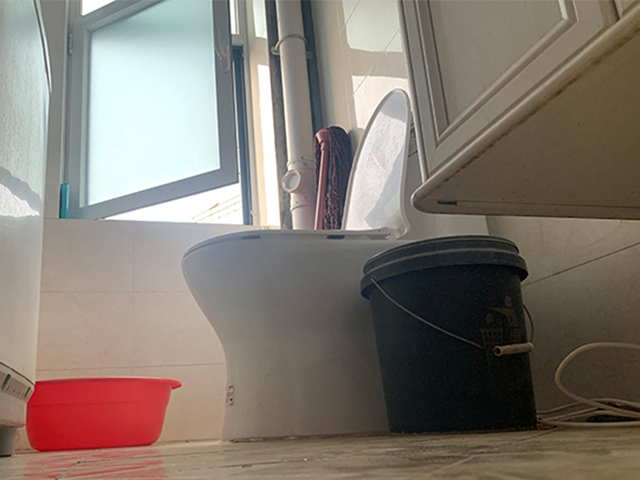closestool: (182, 89, 491, 442)
wire: (536, 341, 640, 432)
